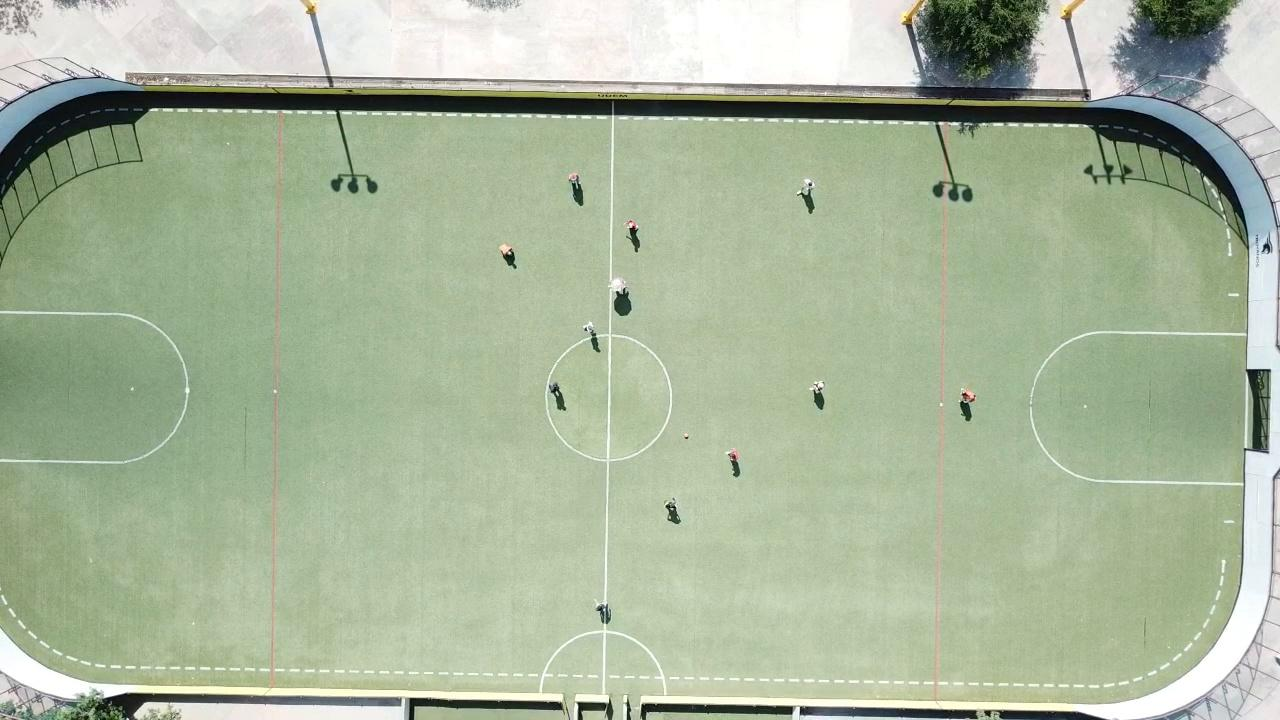ball: (684, 433, 689, 438)
player: (609, 276, 629, 297), (960, 387, 976, 404), (595, 599, 611, 615), (810, 380, 825, 395), (665, 498, 678, 515), (802, 177, 815, 193), (626, 219, 639, 234), (502, 243, 515, 257), (726, 449, 738, 464), (548, 381, 560, 396), (583, 321, 595, 335), (568, 173, 580, 186)
